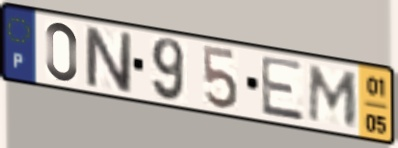0: (45, 20, 79, 83)
5: (200, 42, 240, 111)
9: (149, 36, 190, 103)
E: (258, 54, 308, 125)
M: (306, 62, 361, 129)
N: (82, 23, 135, 96)
